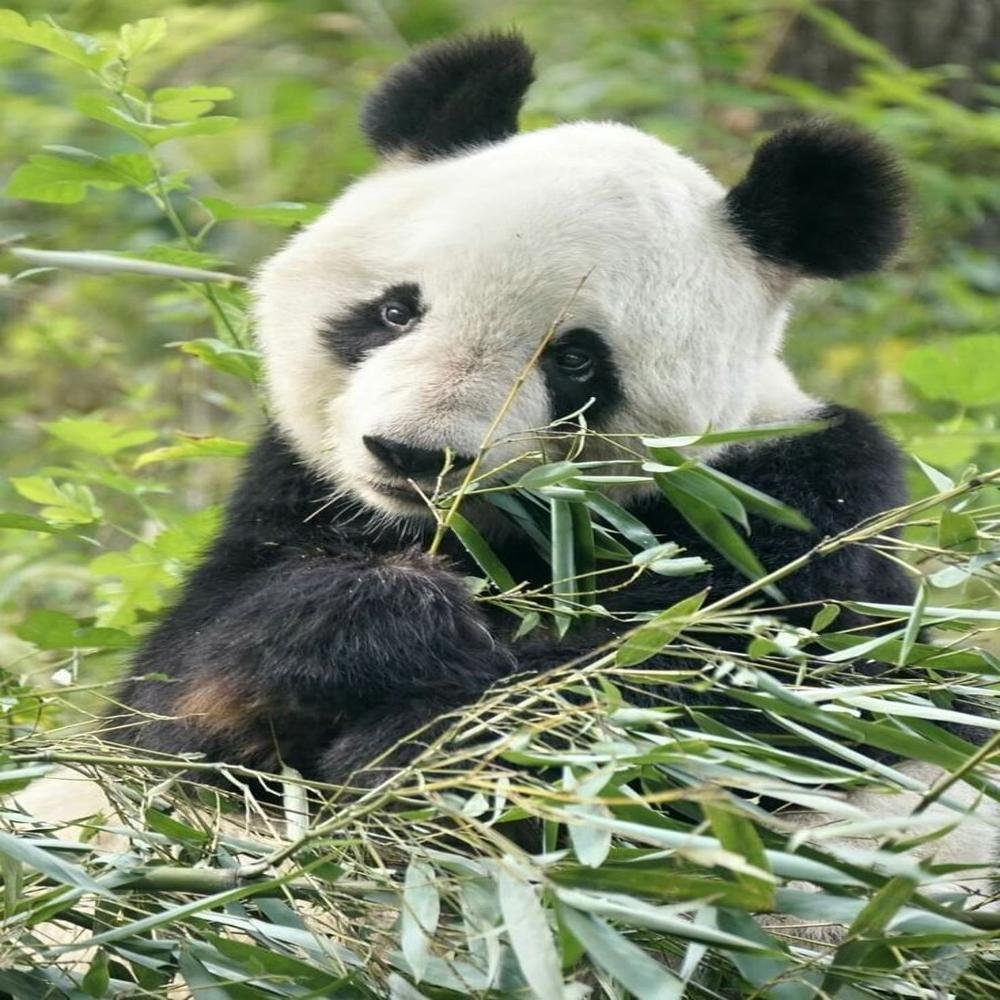panda: (182, 31, 910, 717)
